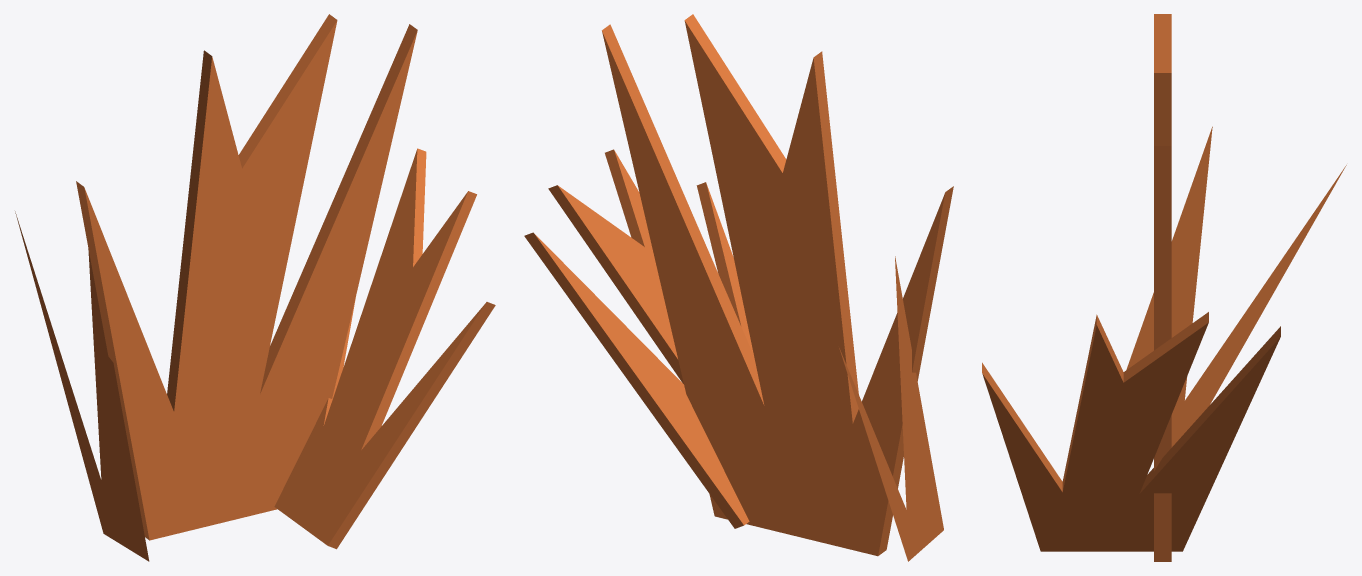
Rendered from fallgrass2.fbx.
3 renders of one model, left to right at view 1: azimuth 30°, elevation 25°; view 2: azimuth 150°, elevation 25°; view 3: azimuth 270°, elevation 25°, orthographic. The views are drawn at different scales.
Parts seen in each view (by area): view 1: grass1; view 2: grass1; view 3: grass1.
Part boxes in pixels (x1,y1,x2,y2): grass1: [15, 14, 495, 561]; grass1: [524, 14, 953, 561]; grass1: [982, 14, 1346, 561].
Bounding box in the file's own units: 49.5 × 61.3 × 40.11.
